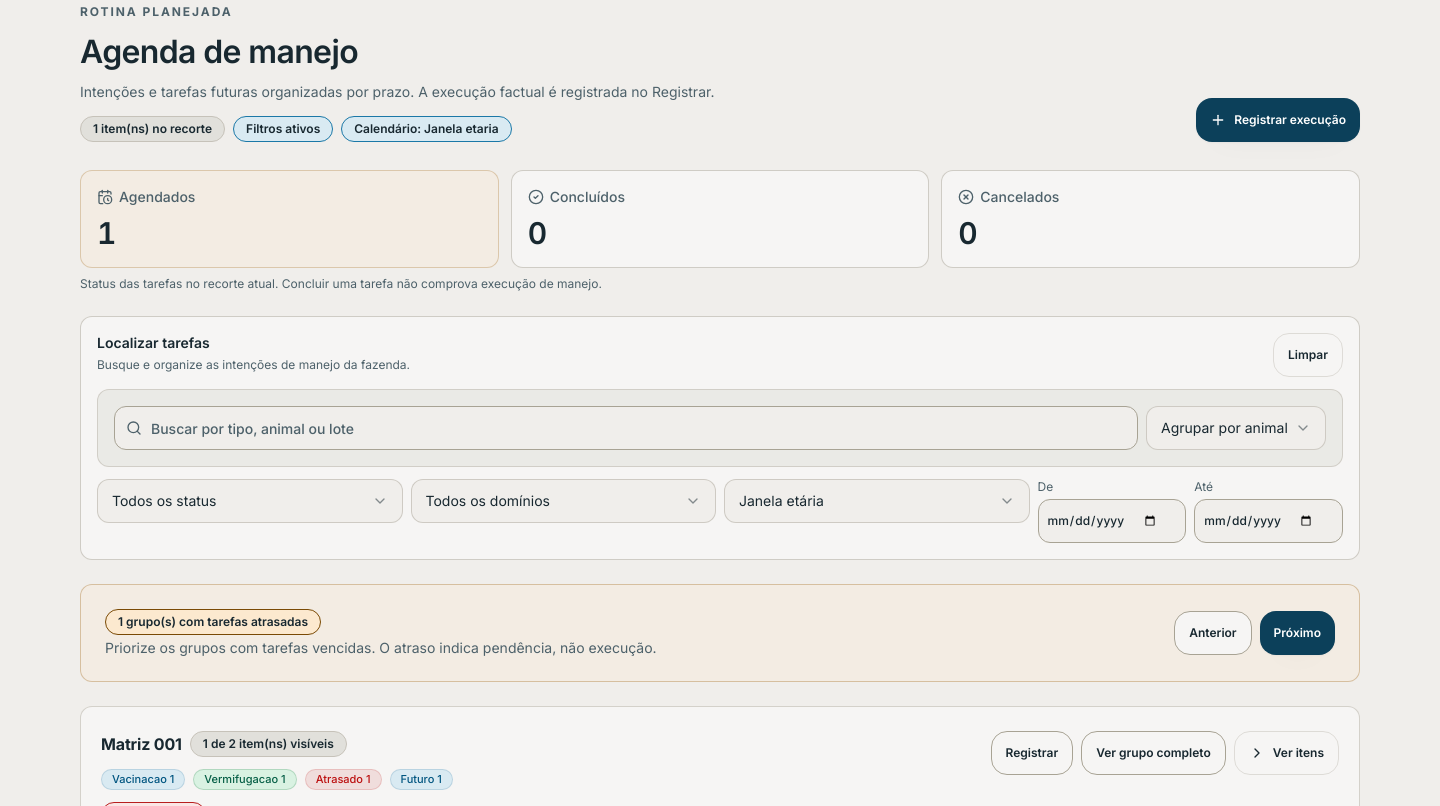
Test: Agenda page › accepts calendarMode from query params and overrides the current recorte
The width and height of the screenshot is (1440, 806).
Expected: the text "Calendário: Janela etaria" is shown, [341, 116, 512, 142]
Click the button "Ver itens" at {"x": 1286, "y": 752}, box [1234, 730, 1339, 774]
(page scrolled)
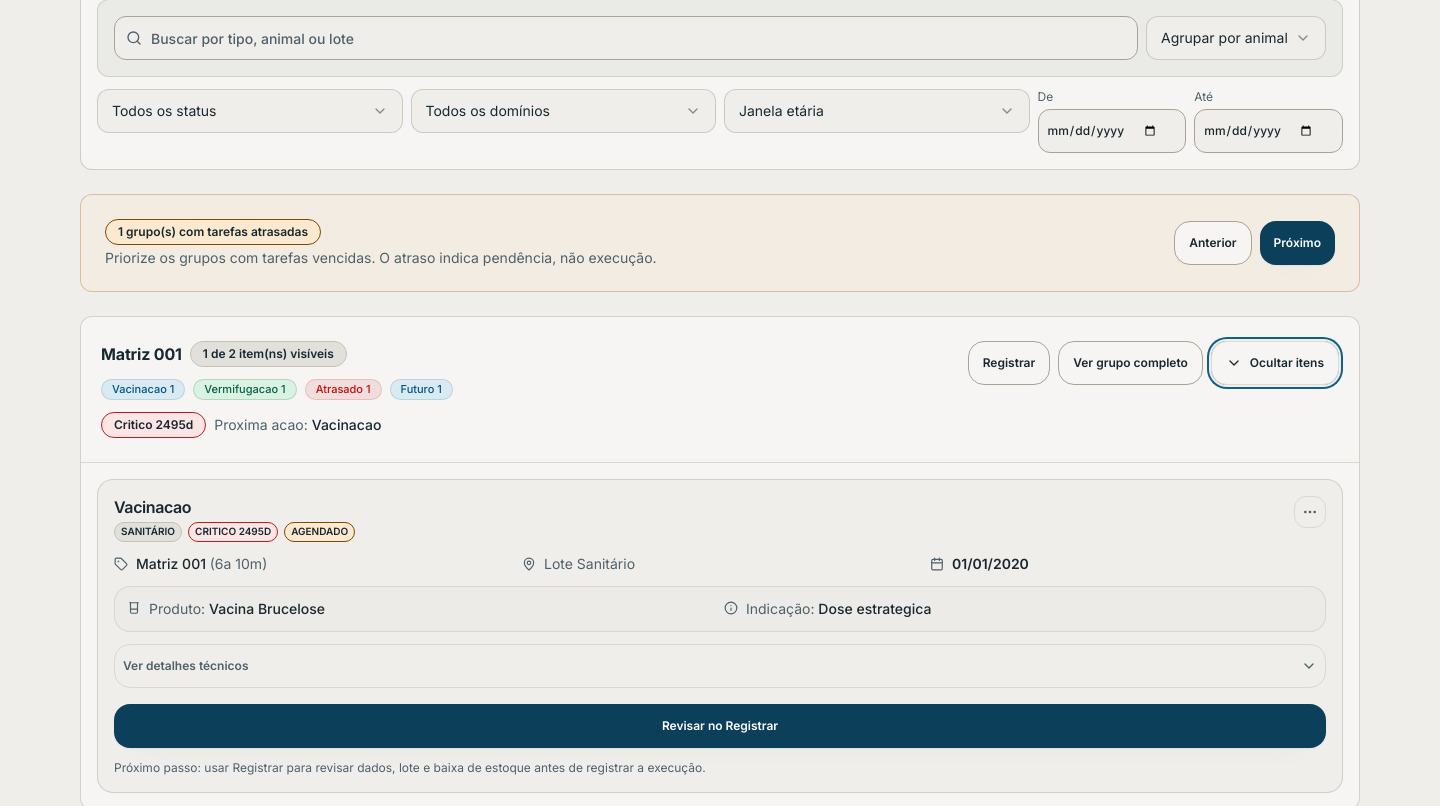
Now the text "Vacina Brucelose" is shown, box [209, 600, 325, 616]
